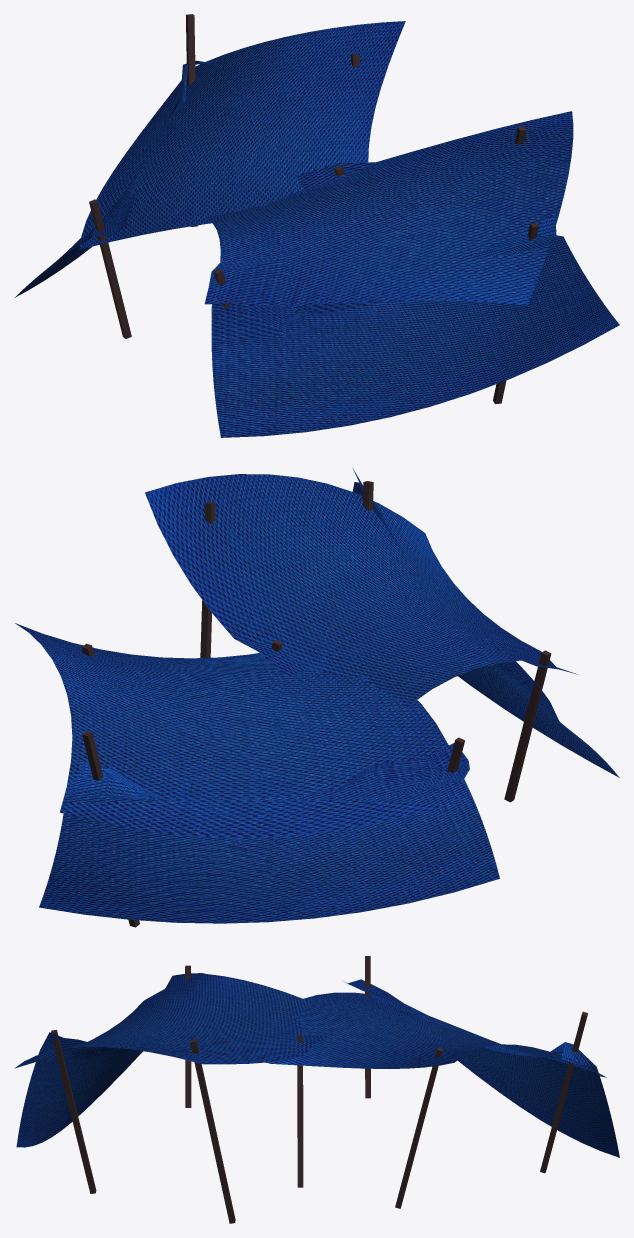
The model's file is Tent.fbx.
3 views of the same model, one above another, from view 1: azimuth 30°, elevation 25°; view 2: azimuth 150°, elevation 25°; view 3: azimuth 270°, elevation 25° (orthographic). The views are drawn at different scales.
Parts seen in each view (by area): view 1: polySurface40, polySurface28; view 2: polySurface40, polySurface28; view 3: polySurface40, polySurface28.
Part boxes in pixels (x1,y1,x2,y2): polySurface40: (14, 21, 619, 437); polySurface28: (89, 14, 538, 404); polySurface40: (15, 468, 619, 923); polySurface28: (82, 481, 551, 927); polySurface40: (14, 973, 619, 1157); polySurface28: (51, 956, 587, 1223).
Bounding box in the file's own units: 11.43 × 5.31 × 15.4.
Materials: 2 (1 with a texture image).
